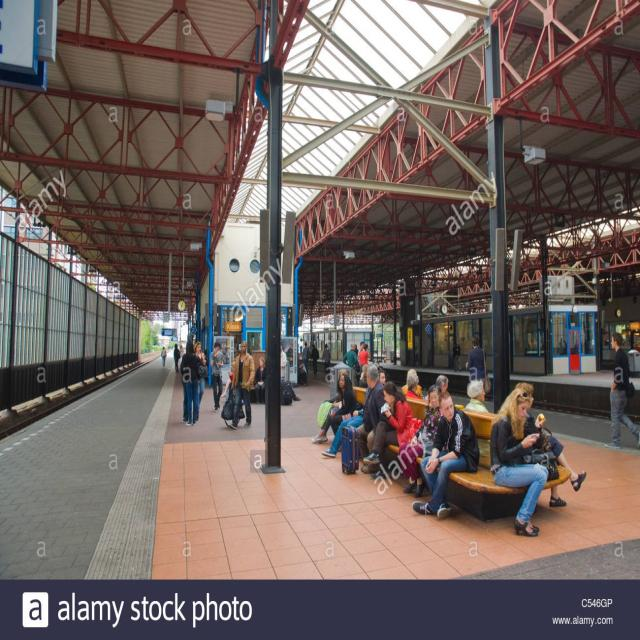body: (411, 388, 482, 521), (514, 382, 588, 508), (488, 388, 549, 536), (362, 381, 415, 481), (398, 383, 442, 499), (603, 330, 640, 452), (356, 363, 386, 474), (220, 340, 256, 431), (311, 368, 349, 444), (180, 338, 208, 426), (328, 372, 358, 452), (464, 378, 491, 458), (522, 328, 602, 354), (329, 403, 364, 451), (209, 340, 225, 413), (193, 341, 207, 424), (466, 335, 488, 384), (280, 340, 303, 386), (357, 361, 388, 390), (179, 352, 190, 424), (401, 368, 424, 400), (342, 342, 358, 387), (254, 356, 266, 404), (220, 359, 234, 398), (403, 374, 422, 399), (358, 344, 372, 374), (321, 342, 331, 382), (297, 352, 308, 386), (310, 343, 320, 377), (452, 338, 462, 372), (435, 374, 449, 396), (301, 342, 310, 375), (173, 344, 181, 374), (291, 383, 301, 402), (160, 346, 167, 368), (203, 348, 208, 366), (179, 344, 183, 356), (358, 341, 363, 349)
